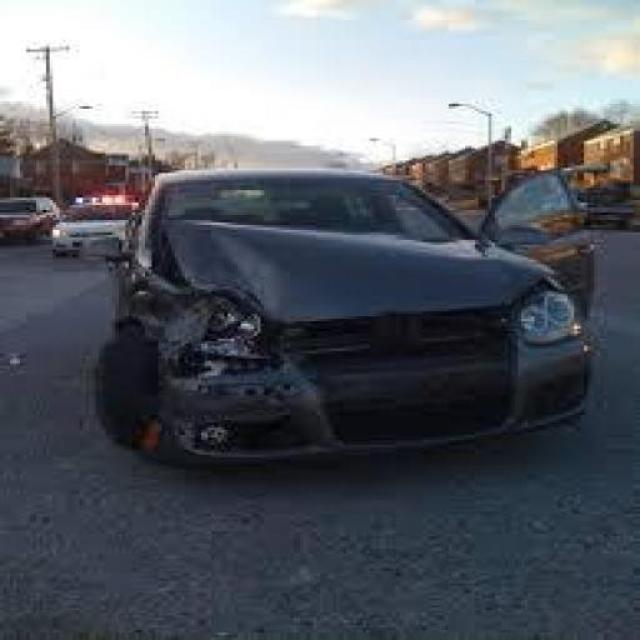crush: (153, 226, 284, 363)
dent: (174, 225, 287, 309)
